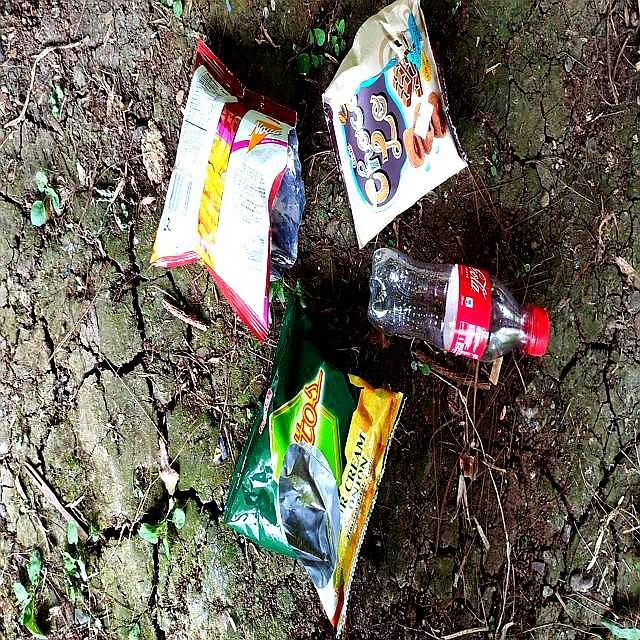Non-biodegradable: (212, 291, 412, 640), (147, 39, 327, 354), (315, 1, 474, 254), (365, 244, 552, 387)
